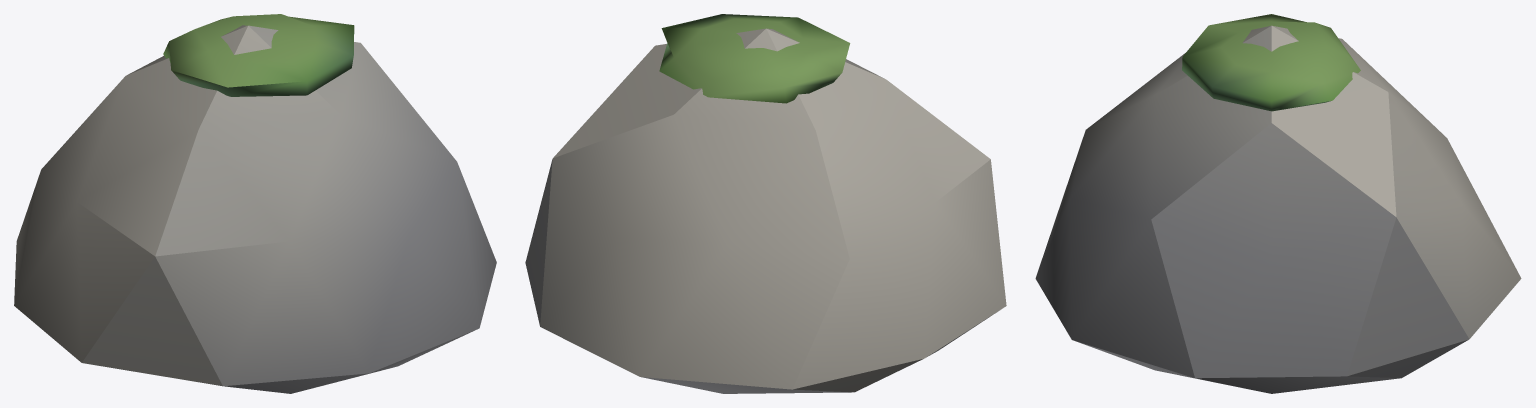
File: RockC.fbx
3 renders of one model, left to right at view 1: azimuth 30°, elevation 25°; view 2: azimuth 150°, elevation 25°; view 3: azimuth 270°, elevation 25°, orthographic. The views are drawn at different scales.
Visible parts, largest first — view 1: SM_Veg_RockC; view 2: SM_Veg_RockC; view 3: SM_Veg_RockC.
Boxes of the visible parts, left/top/right/bottom form: SM_Veg_RockC: left=14, top=14, right=496, bottom=393; SM_Veg_RockC: left=525, top=14, right=1006, bottom=393; SM_Veg_RockC: left=1035, top=14, right=1521, bottom=393.
Bounding box in the file's own units: 1.59 × 1.04 × 1.66.
